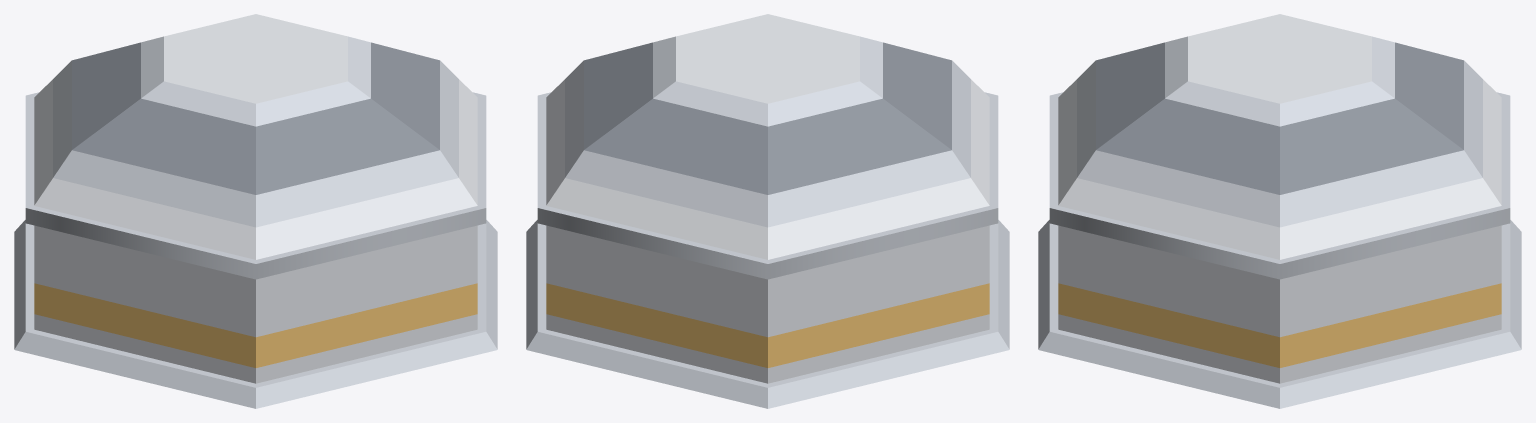
The model's file is habitat.glb.
3 views of the same model, side by side, from view 1: azimuth 30°, elevation 25°; view 2: azimuth 150°, elevation 25°; view 3: azimuth 270°, elevation 25° (orthographic).
Visible parts, largest first — view 1: hangar_roundA; view 2: hangar_roundA; view 3: hangar_roundA.
Boxes of the visible parts, x1,y1,x2,y2 form: hangar_roundA: [14, 14, 497, 408]; hangar_roundA: [526, 14, 1009, 408]; hangar_roundA: [1038, 14, 1521, 408].
Size of the model in its own units: 3.27 by 1.5 by 2.83.
Materials: 1 (1 with a texture image).
